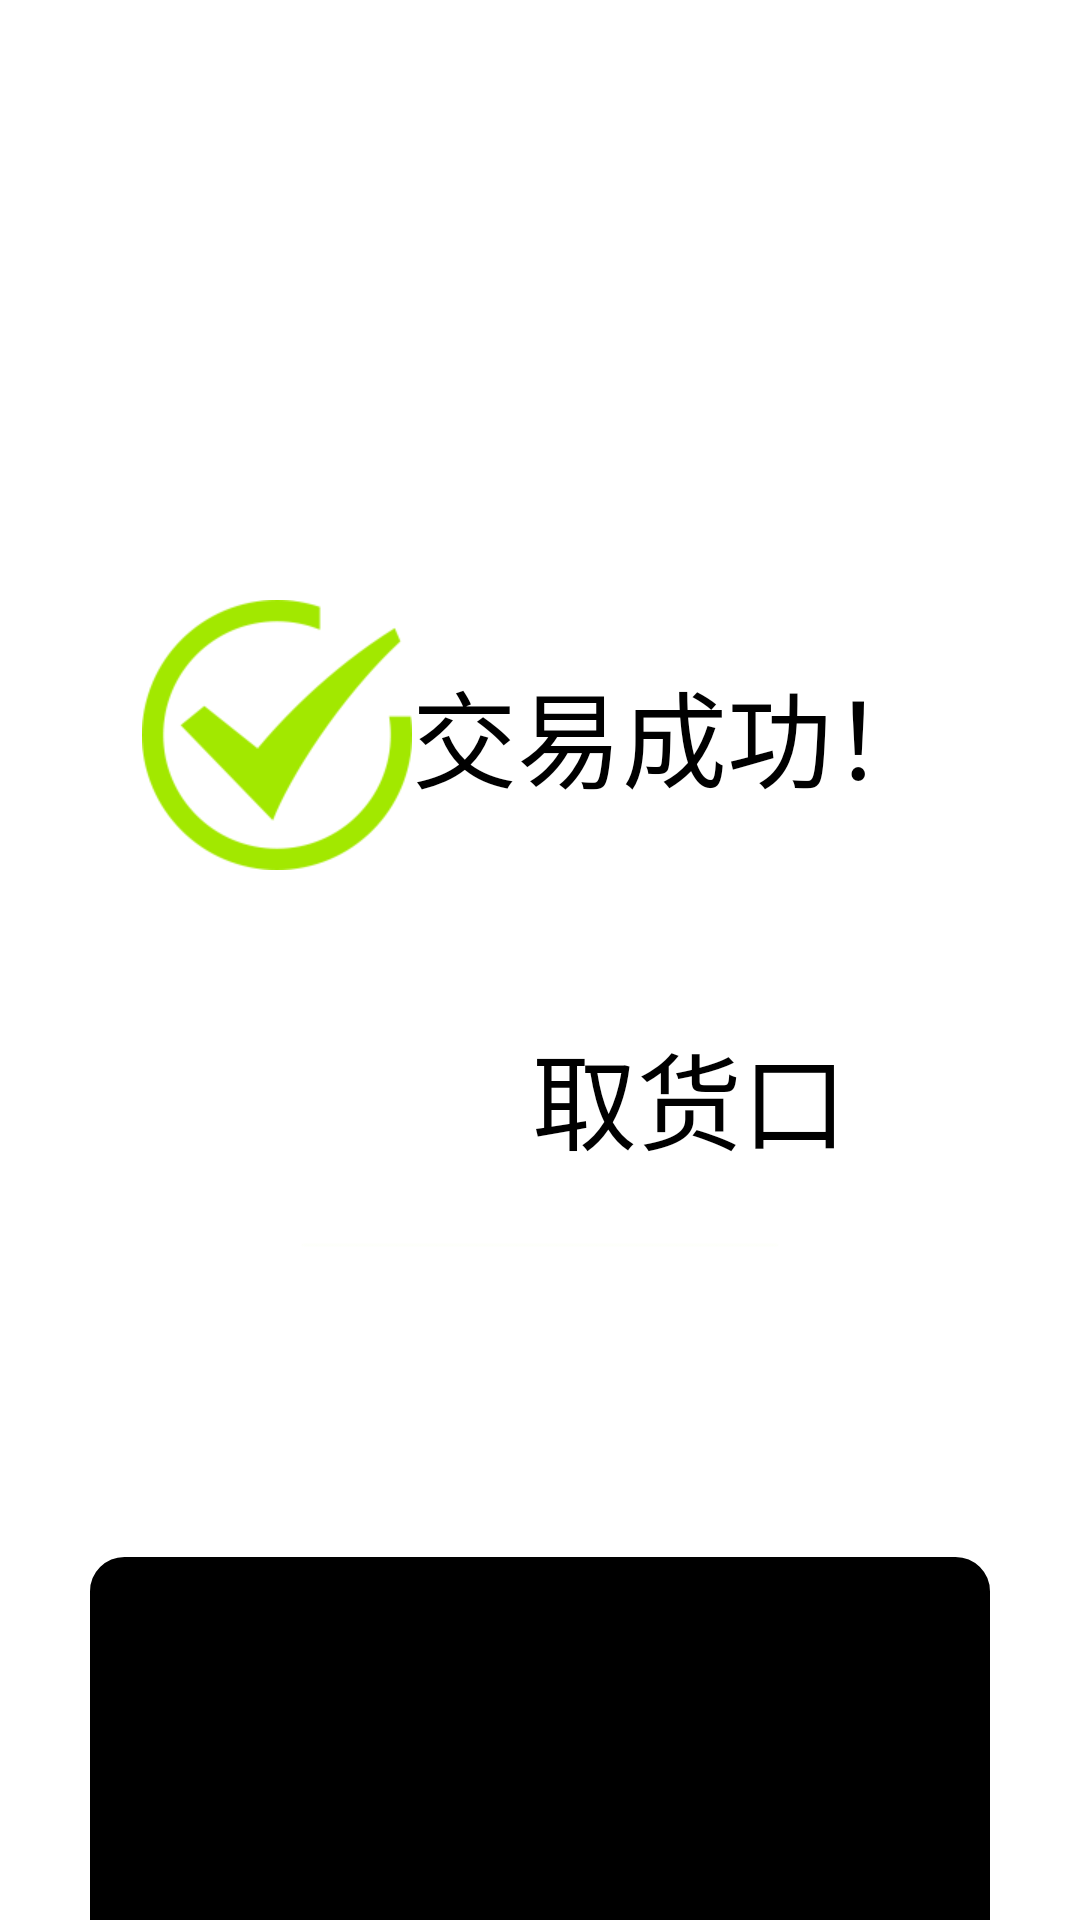

Locate icon controls on the screen. Image size 1080px x 1920px, boxes as (x1, y1, x2, y2).
pay ok: (142, 600, 412, 870)
